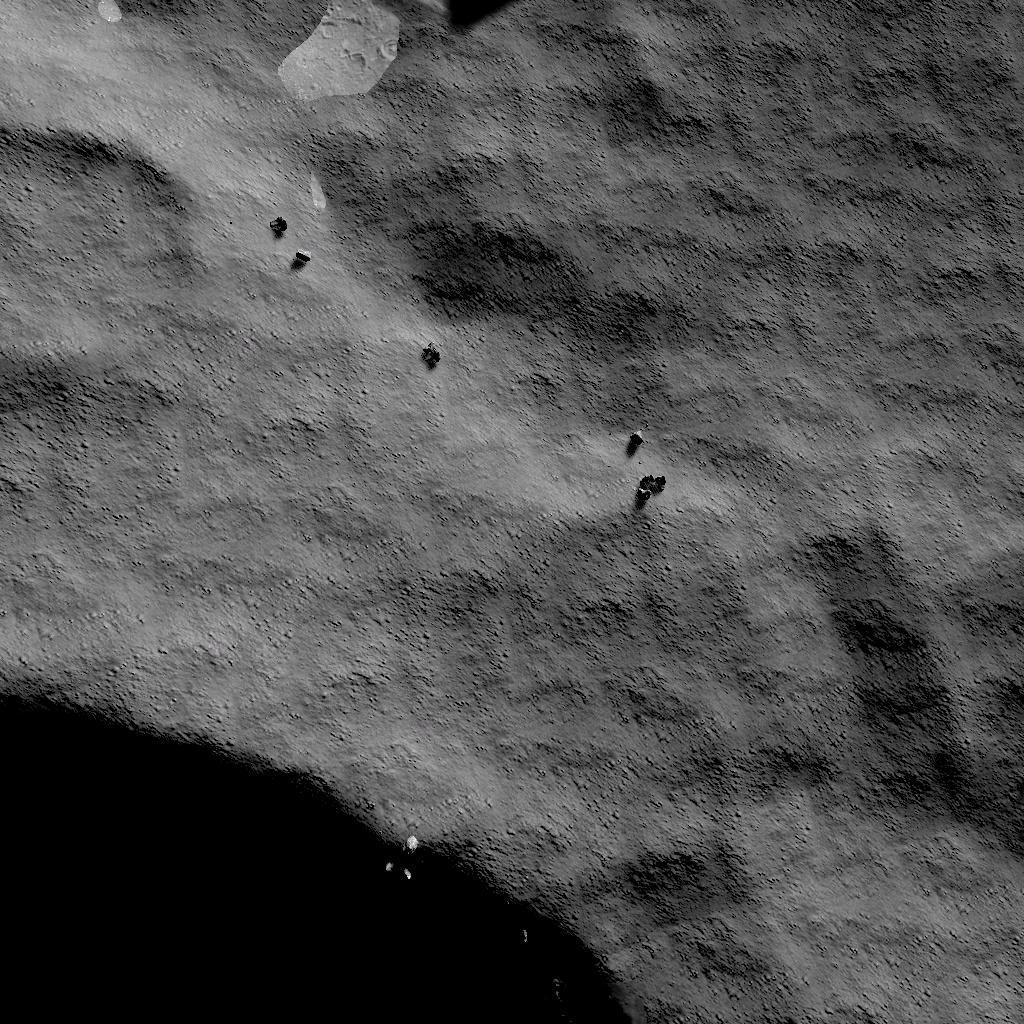Boulders: (274, 4, 408, 134)
Crater: (0, 680, 624, 1024), (0, 112, 192, 408)
Plan surface: (671, 454, 1024, 1024), (591, 0, 1024, 422), (0, 446, 589, 666)
